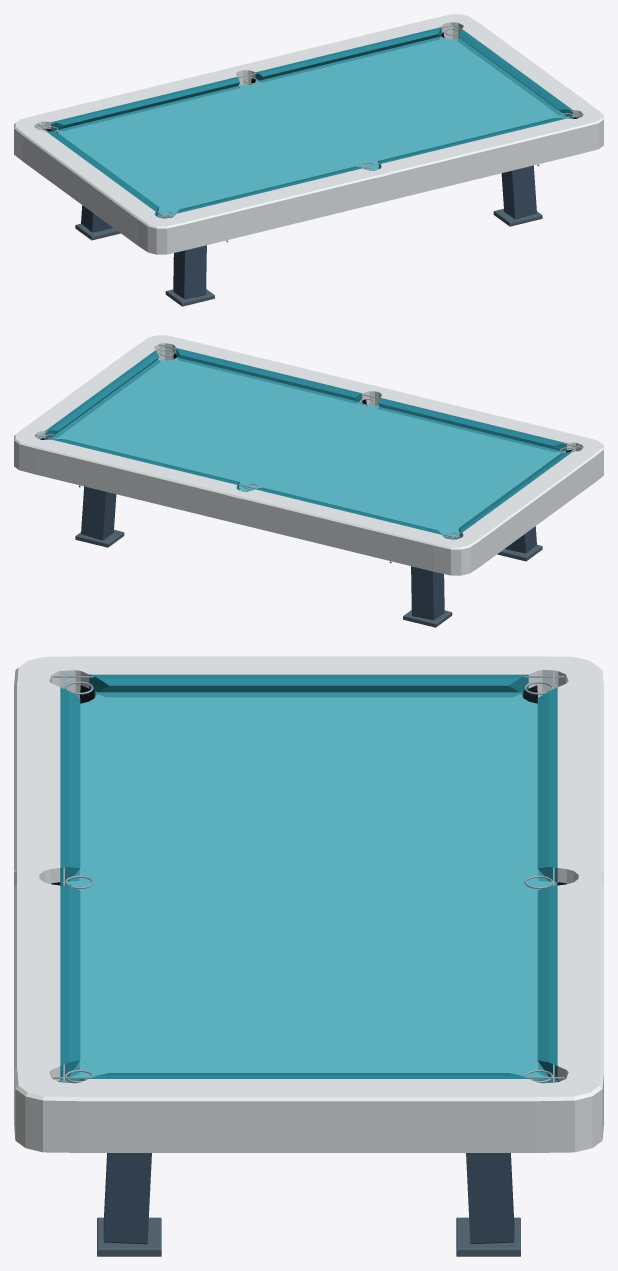
Rendered from table-eightball-10-chinese-ivory.glb.
The picture shows the model from 3 angles, top to bottom: view 1: azimuth 30°, elevation 25°; view 2: azimuth 150°, elevation 25°; view 3: azimuth 270°, elevation 25°; orthographic projection. The views are drawn at different scales.
Parts seen in each view (by area): view 1: table-eightball-10-chinese-ivory, break-builder-table-support, chinese-steel-cushion-details; view 2: table-eightball-10-chinese-ivory, break-builder-table-support, chinese-steel-cushion-details; view 3: table-eightball-10-chinese-ivory, break-builder-table-support, chinese-steel-cushion-details.
Part boxes in pixels (bbox=[...]): table-eightball-10-chinese-ivory: bbox=[14, 14, 603, 254]; break-builder-table-support: bbox=[75, 165, 542, 306]; chinese-steel-cushion-details: bbox=[35, 23, 582, 218]; table-eightball-10-chinese-ivory: bbox=[14, 335, 603, 575]; break-builder-table-support: bbox=[75, 486, 542, 627]; chinese-steel-cushion-details: bbox=[35, 344, 582, 539]; table-eightball-10-chinese-ivory: bbox=[14, 656, 603, 1152]; break-builder-table-support: bbox=[97, 1153, 520, 1256]; chinese-steel-cushion-details: bbox=[53, 671, 564, 1082].
Size of the model in its own units: 2.87 by 0.6219 by 1.61.
